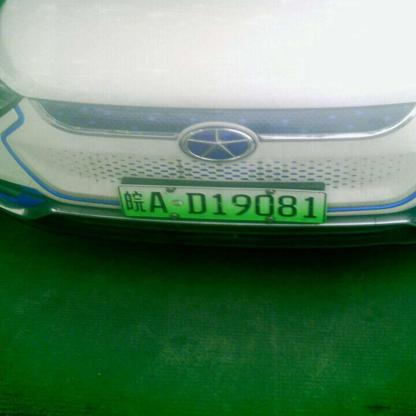lp: (118, 186, 325, 221)
